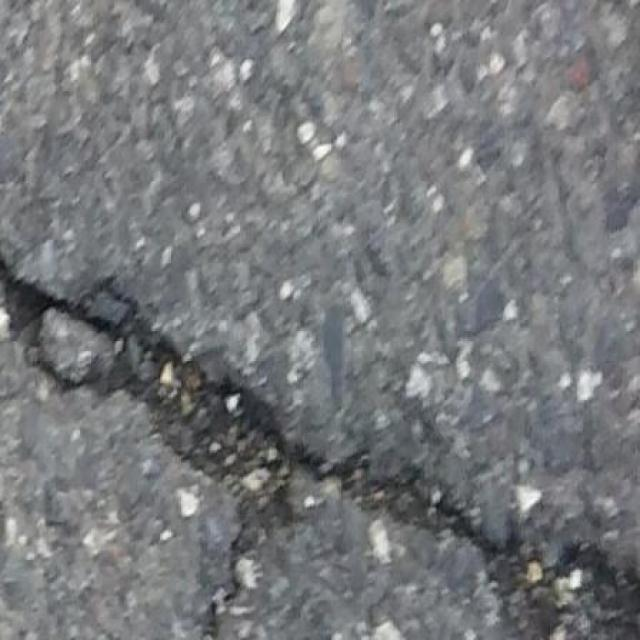Crack: (0, 257, 627, 640), (201, 575, 234, 639)
